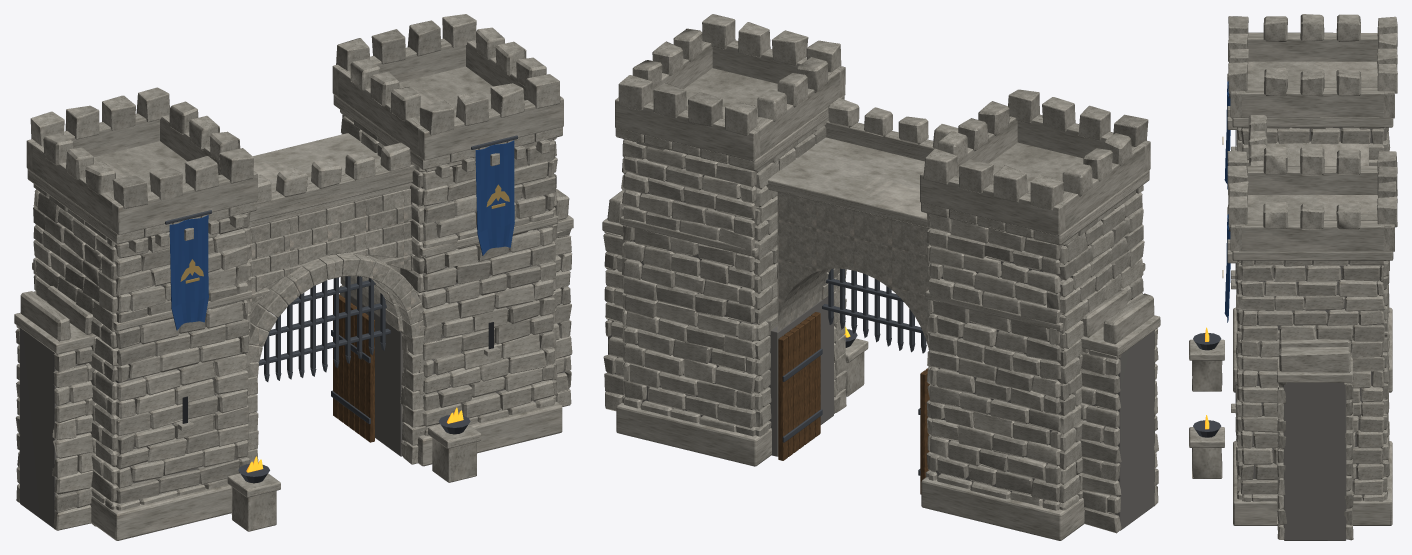
The model's file is ValoriaHeroGate_LOD1.glb.
The picture shows the model from 3 angles, left to right: view 1: azimuth 30°, elevation 25°; view 2: azimuth 150°, elevation 25°; view 3: azimuth 270°, elevation 25°; orthographic projection. The views are drawn at different scales.
Parts seen in each view (by area): view 1: Tower front ashlar.002, Battered tower foot, Tower front ashlar.003, Tower front ashlar.001, Tower front ashlar.027, Tower front ashlar, Tower front ashlar.008, Tower structural core, Banner mounting bar, Royal blue Valoria banner, Open oak gate leaf; view 2: Tower front ashlar.002, Battered tower foot, Tower front ashlar.001, Tower front ashlar.003, Tower front ashlar.027, Tower front ashlar, Tower front ashlar.008, Tower structural core, Open oak gate leaf, Banner mounting bar; view 3: Tower front ashlar.002, Tower front ashlar.003, Battered tower foot, Tower structural core, Tower front ashlar.027, Tower front ashlar.008, Tower front ashlar.001, Tower front ashlar, Banner mounting bar, Royal blue Valoria banner.
Part boxes in pixels (bbox=[...]): Tower front ashlar.002: bbox=[16, 27, 571, 482]; Battered tower foot: bbox=[14, 94, 573, 540]; Tower front ashlar.003: bbox=[16, 66, 570, 531]; Tower front ashlar.001: bbox=[15, 20, 571, 512]; Tower front ashlar.027: bbox=[15, 14, 572, 478]; Tower front ashlar: bbox=[30, 83, 571, 530]; Tower front ashlar.008: bbox=[16, 114, 571, 507]; Tower structural core: bbox=[20, 187, 565, 527]; Banner mounting bar: bbox=[165, 135, 517, 483]; Royal blue Valoria banner: bbox=[169, 140, 514, 330]; Open oak gate leaf: bbox=[333, 294, 374, 442]; Tower front ashlar.002: bbox=[607, 28, 1157, 510]; Battered tower foot: bbox=[602, 95, 1160, 540]; Tower front ashlar.001: bbox=[603, 83, 1158, 501]; Tower front ashlar.003: bbox=[605, 68, 1157, 514]; Tower front ashlar.027: bbox=[604, 14, 1158, 512]; Tower front ashlar: bbox=[605, 22, 1158, 505]; Tower front ashlar.008: bbox=[604, 140, 1158, 533]; Tower structural core: bbox=[608, 146, 1154, 530]; Open oak gate leaf: bbox=[778, 312, 929, 494]; Banner mounting bar: bbox=[782, 268, 926, 475]; Tower front ashlar.002: bbox=[1227, 14, 1397, 529]; Tower front ashlar.003: bbox=[1192, 33, 1397, 524]; Battered tower foot: bbox=[1189, 73, 1393, 525]; Tower structural core: bbox=[1252, 127, 1373, 540]; Tower front ashlar.027: bbox=[1228, 49, 1397, 539]; Tower front ashlar.008: bbox=[1235, 127, 1389, 501]; Tower front ashlar.001: bbox=[1228, 16, 1397, 525]; Tower front ashlar: bbox=[1228, 16, 1397, 540]; Banner mounting bar: bbox=[1193, 93, 1230, 437]; Royal blue Valoria banner: bbox=[1224, 81, 1230, 322].
Size of the model in its own units: 11.58 by 7.65 by 4.52.
Materials: 14 (8 with a texture image).
